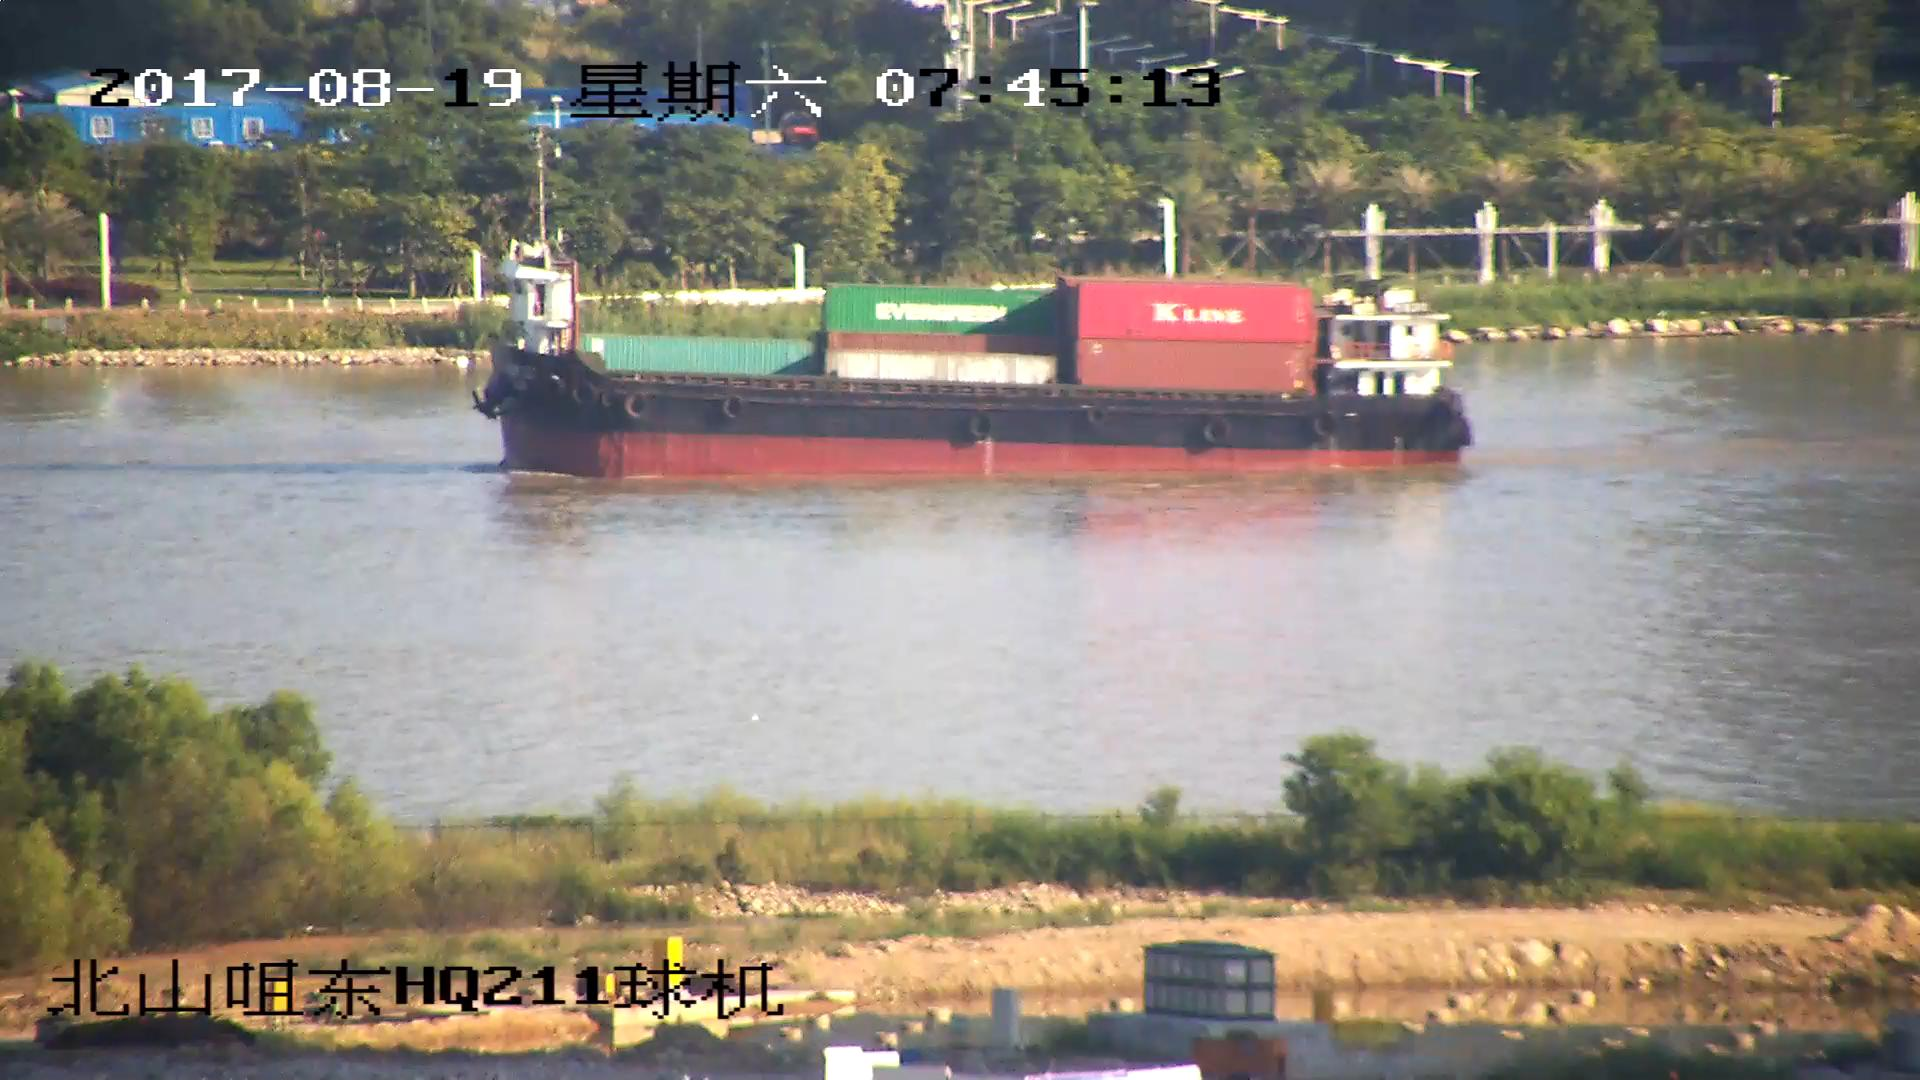container ship: (467, 229, 1473, 475)
